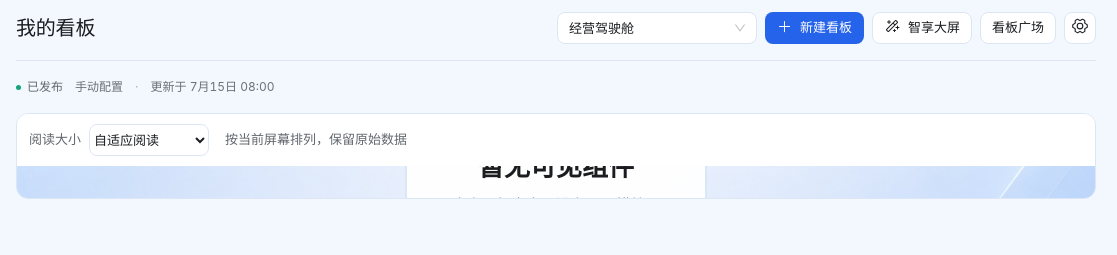
DashboardPage › keeps archive and delete apart in the settings menu
Click the button named "当前看板设置".
click(1080, 28)  # box 1064,12 -> 1096,44
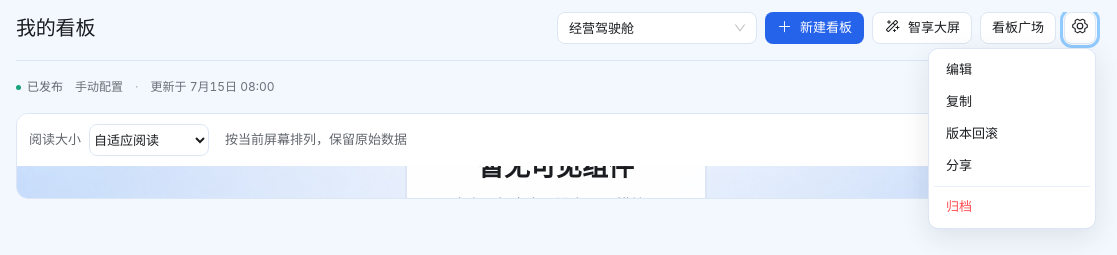
Check: the menu item "编辑" is shown, box 946,61 -> 972,77
Check: the menu item "复制" is shown, box 946,93 -> 972,109
Check: the menu item "版本回滚" is shown, box 946,125 -> 998,141
